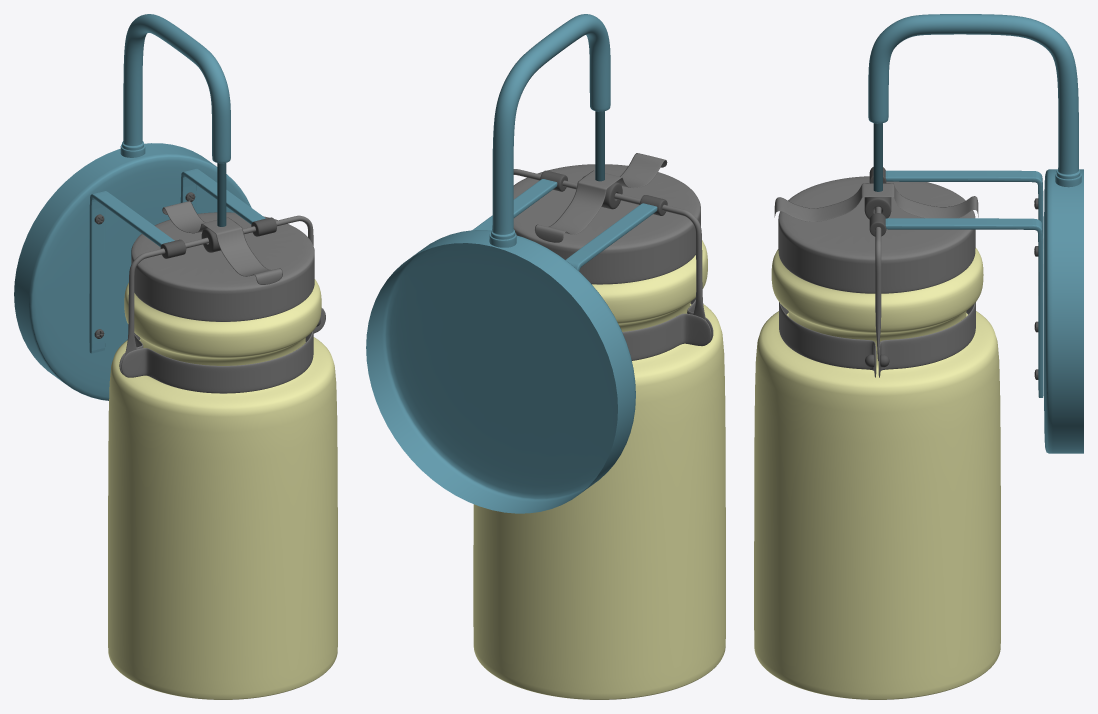
File: Lamp.fbx
3 views of the same model, side by side, from view 1: azimuth 30°, elevation 25°; view 2: azimuth 150°, elevation 25°; view 3: azimuth 270°, elevation 25° (orthographic). The views are drawn at different scales.
Parts seen in each view (by area): view 1: Sphere.004; view 2: Sphere.004; view 3: Sphere.004.
Part boxes in pixels (<box>): Sphere.004: <box>14,14,337,699</box>; Sphere.004: <box>366,14,725,699</box>; Sphere.004: <box>754,14,1083,699</box>.
Bounding box in the file's own units: 60.39 × 148 × 70.
